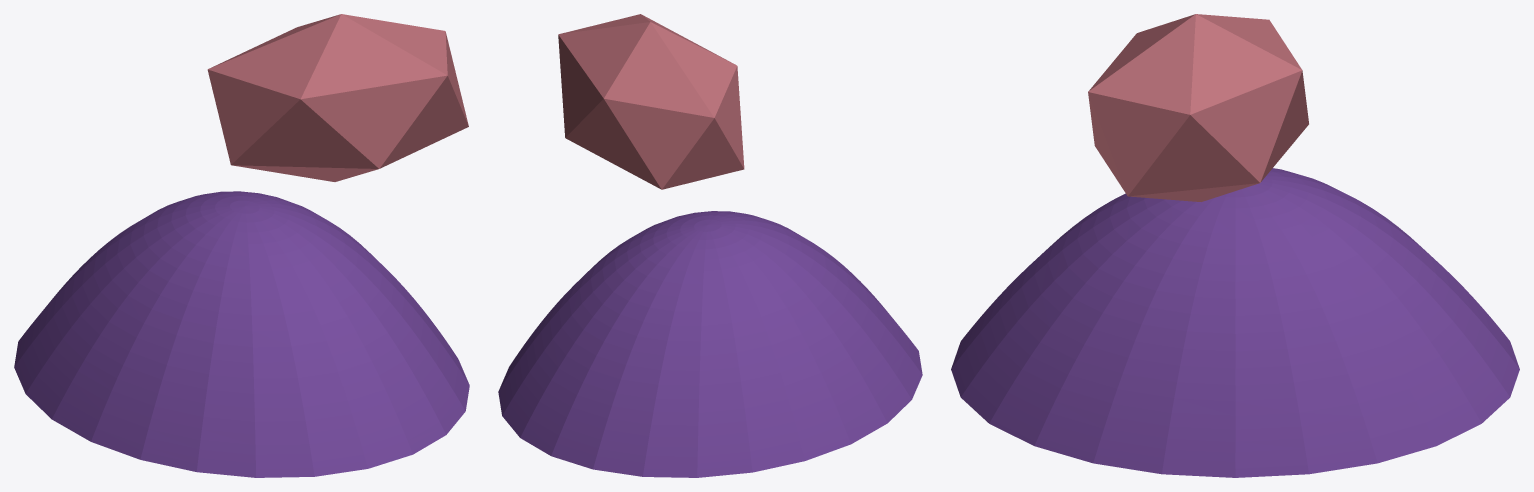
The model's file is tes-3d-model.glb.
3 renders of one model, left to right at view 1: azimuth 30°, elevation 25°; view 2: azimuth 150°, elevation 25°; view 3: azimuth 270°, elevation 25°, orthographic. The views are drawn at different scales.
Visible parts, largest first — view 1: Mesh_Mesh_head_geo.001_lambert2SG.001; view 2: Mesh_Mesh_head_geo.001_lambert2SG.001; view 3: Mesh_Mesh_head_geo.001_lambert2SG.001.
Boxes of the visible parts, <box> form: Mesh_Mesh_head_geo.001_lambert2SG.001: <box>14,14,469,477</box>; Mesh_Mesh_head_geo.001_lambert2SG.001: <box>498,14,922,477</box>; Mesh_Mesh_head_geo.001_lambert2SG.001: <box>951,14,1519,477</box>.
Size of the model in its own units: 46.99 by 42.35 by 54.
